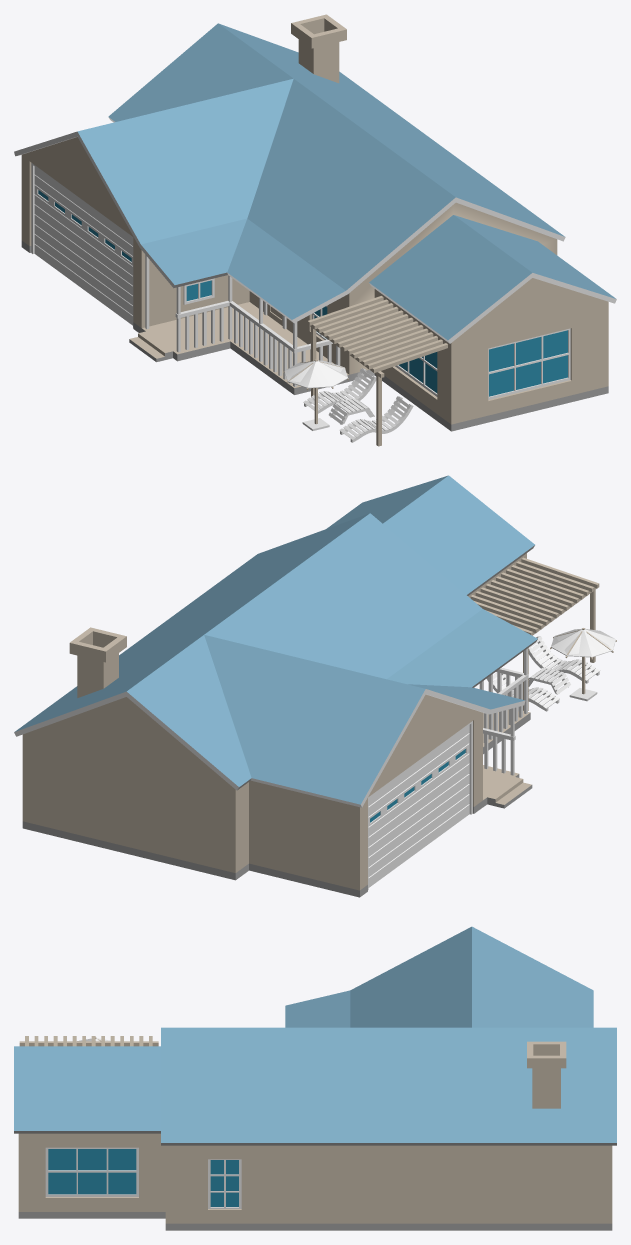
The model's file is Res1.obj.
3 renders of one model, top to bottom at view 1: azimuth 30°, elevation 25°; view 2: azimuth 150°, elevation 25°; view 3: azimuth 270°, elevation 25°, orthographic. The views are drawn at different scales.
Parts seen in each view (by area): view 1: Res1, Roof, Shutter, Deck, Floor, Railings, Windows_2, Chimney, Umbrella, Chair2, Chair1, Windows (+2 smaller); view 2: Res1, Shutter, Roof, Deck, Chimney, Railings, Floor, Umbrella, Chair2, Chair1, Table; view 3: Res1, Windows_4, Chimney, Roof, Windows_5, Deck.
Part boxes in pixels (bbox=[...]): Res1: bbox=[14, 23, 616, 431]; Roof: bbox=[139, 218, 347, 323]; Shutter: bbox=[31, 163, 133, 327]; Deck: bbox=[307, 296, 447, 446]; Floor: bbox=[129, 302, 349, 394]; Railings: bbox=[145, 255, 340, 386]; Windows_2: bbox=[488, 328, 570, 399]; Chimney: bbox=[291, 14, 346, 83]; Umbrella: bbox=[283, 359, 348, 430]; Chair2: bbox=[339, 396, 413, 442]; Chair1: bbox=[303, 368, 376, 413]; Windows: bbox=[395, 352, 437, 396]; Res1: bbox=[14, 475, 534, 897]; Shutter: bbox=[368, 721, 472, 889]; Roof: bbox=[387, 609, 537, 714]; Deck: bbox=[470, 557, 599, 710]; Chimney: bbox=[69, 627, 126, 697]; Railings: bbox=[479, 648, 528, 775]; Floor: bbox=[483, 709, 532, 808]; Umbrella: bbox=[550, 628, 616, 701]; Chair2: bbox=[528, 636, 599, 683]; Chair1: bbox=[486, 673, 559, 711]; Table: bbox=[528, 667, 570, 694]; Res1: bbox=[14, 926, 616, 1230]; Windows_4: bbox=[45, 1147, 138, 1196]; Chimney: bbox=[527, 1041, 566, 1108]; Roof: bbox=[285, 990, 350, 1027]; Windows_5: bbox=[208, 1159, 241, 1208]; Deck: bbox=[19, 1036, 158, 1046].
Bounding box in the file's own units: 0.764 × 0.3663 × 1.23.
